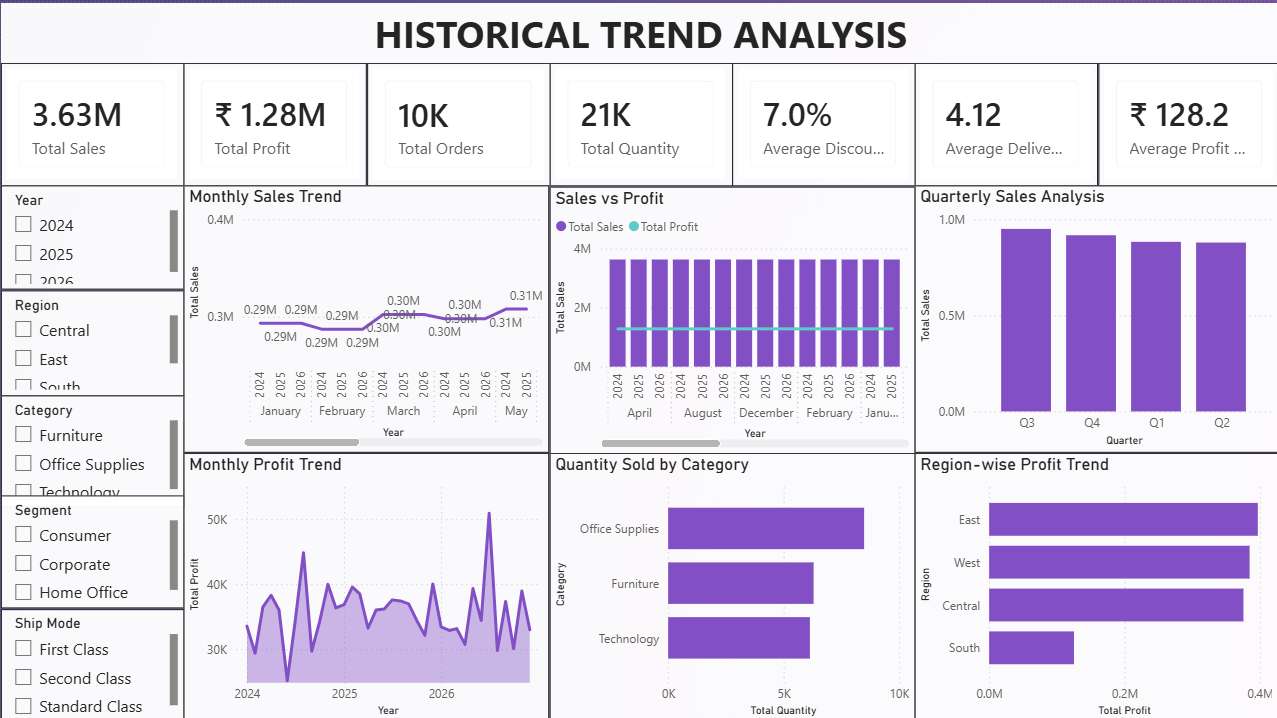

Layout of this report page (visuals, bound fields, positions):
{"tool":"powerbi","page":{"name":"HISTORICAL TREND ANALYSIS","canvas":[1280,720],"ordinal":1},"visuals":[{"type":"textbox","box":[0,0,1280,60],"z":0},{"type":"cardVisual","fields":{"Data":["Data.Average Delivery Days"]},"box":[914.3,60,182.9,122.9],"z":1000},{"type":"cardVisual","fields":{"Data":["Data.Average Discount"]},"box":[731.4,60,182.9,122.9],"z":2000},{"type":"cardVisual","fields":{"Data":["Calendar.Total Quantity"]},"box":[548.6,60,182.9,122.9],"z":3000},{"type":"cardVisual","fields":{"Data":["Data.Total Orders"]},"box":[365.6,59.9,183.4,123.5],"z":4000},{"type":"cardVisual","fields":{"Data":["Data.Total Profit"]},"box":[182.9,60,182.9,122.9],"z":5000},{"type":"cardVisual","fields":{"Data":["Data.Total Sales"]},"box":[0,60,182.9,122.9],"z":6000},{"type":"lineChart","title":"Monthly Sales Trend","fields":{"Y":["Data.Total Sales"],"Category":["Data.Order Date.Variation.Date Hierarchy.Month","Calendar.Year"]},"box":[182.9,182.9,365.7,267.1],"z":7000},{"type":"areaChart","title":"Monthly Profit Trend","fields":{"Category":["Data.Order Date.Variation.Date Hierarchy.Year","Data.Order Date.Variation.Date Hierarchy.Month"],"Y":["Data.Total Profit"]},"box":[182.9,450,365.7,270],"z":8000},{"type":"lineClusteredColumnComboChart","title":"Sales vs Profit","fields":{"Category":["Calendar.Month","Calendar.Year"],"Y2":["Data.Total Profit"],"Y":["Data.Total Sales"]},"box":[548.6,184.3,365.7,267.1],"z":9000},{"type":"barChart","title":"Quantity Sold by Category","fields":{"Category":["Data.Category"],"Y":["Calendar.Total Quantity"]},"box":[548.6,450,365.7,270],"z":10000},{"type":"cardVisual","fields":{"Data":["Data.Average Profit per Order"]},"box":[1097.1,60,182.9,122.9],"z":11000},{"type":"columnChart","title":"Quarterly Sales Analysis","fields":{"Y":["Data.Total Sales"],"Category":["Data.Quarter"]},"box":[914.3,182.9,365.7,267.1],"z":12000},{"type":"barChart","title":"Region-wise Profit Trend","fields":{"Category":["Data.Region"],"Y":["Data.Total Profit"]},"box":[914.3,450,365.7,270],"z":13000},{"type":"slicer","fields":{"Values":["Calendar.Year"]},"box":[0,182.9,182.9,104.3],"z":14000},{"type":"slicer","fields":{"Values":["Data.Ship Mode"]},"box":[0,605.7,182.9,114.3],"z":15000},{"type":"slicer","fields":{"Values":["Data.Region"]},"box":[0,287.1,182.9,105.7],"z":16000},{"type":"slicer","fields":{"Values":["Data.Category"]},"box":[0,392.9,182.9,111.4],"z":17000},{"type":"slicer","fields":{"Values":["Data.Segment"]},"box":[0,492.9,182.9,112.9],"z":18000}]}

Visuals, with their boxes in screenshot pixels (x1, y1, x2, y2), scaled from the page's 1280x720 canvas onto the 1277x718 screenshot:
textbox: 0, 0, 1276, 60
cardVisual - Data.Average Delivery Days: 912, 60, 1095, 182
cardVisual - Data.Average Discount: 730, 60, 912, 182
cardVisual - Calendar.Total Quantity: 547, 60, 730, 182
cardVisual - Data.Total Orders: 365, 60, 548, 183
cardVisual - Data.Total Profit: 182, 60, 365, 182
cardVisual - Data.Total Sales: 0, 60, 182, 182
"Monthly Sales Trend" lineChart: 182, 182, 547, 449
"Monthly Profit Trend" areaChart: 182, 449, 547, 717
"Sales vs Profit" lineClusteredColumnComboChart: 547, 184, 912, 450
"Quantity Sold by Category" barChart: 547, 449, 912, 717
cardVisual - Data.Average Profit per Order: 1095, 60, 1276, 182
"Quarterly Sales Analysis" columnChart: 912, 182, 1276, 449
"Region-wise Profit Trend" barChart: 912, 449, 1276, 717
slicer - Calendar.Year: 0, 182, 182, 286
slicer - Data.Ship Mode: 0, 604, 182, 717
slicer - Data.Region: 0, 286, 182, 392
slicer - Data.Category: 0, 392, 182, 503
slicer - Data.Segment: 0, 492, 182, 604
